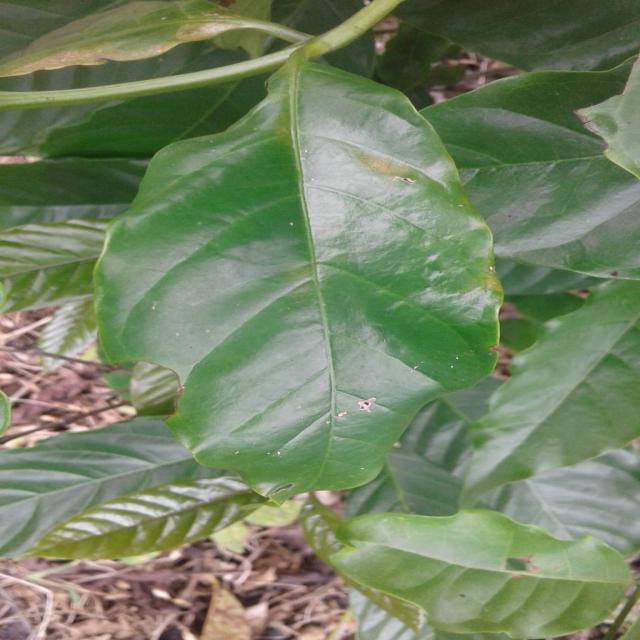Enfermedad-Roya: (94, 61, 506, 497)
